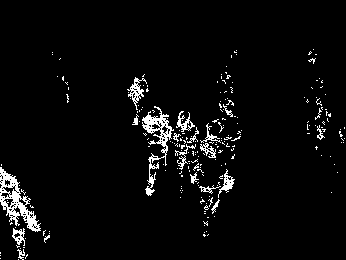person: (1, 159, 50, 260), (194, 132, 233, 237), (170, 109, 203, 192), (143, 105, 171, 195), (215, 99, 242, 161), (127, 73, 149, 127)
